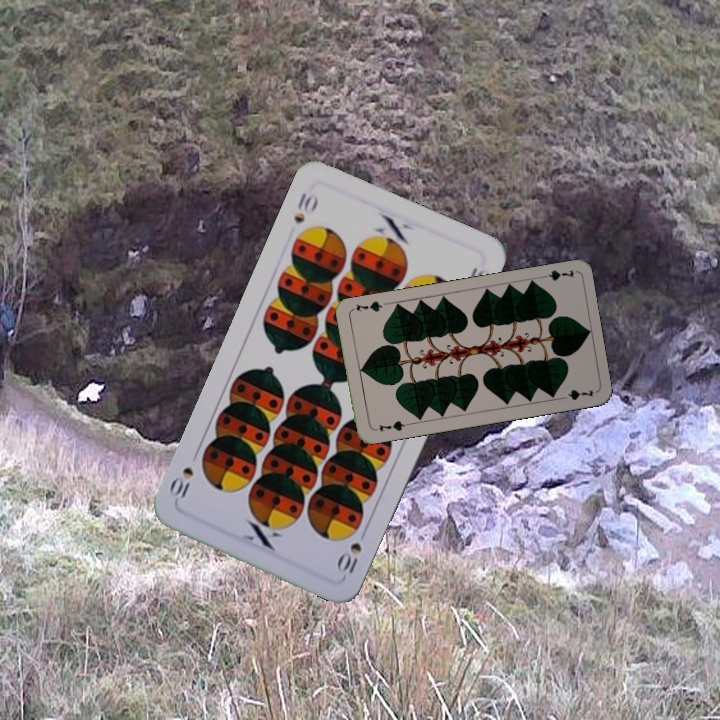G7: (370, 416, 410, 434), (535, 266, 576, 283)
S10: (333, 538, 365, 577), (290, 188, 321, 226)
